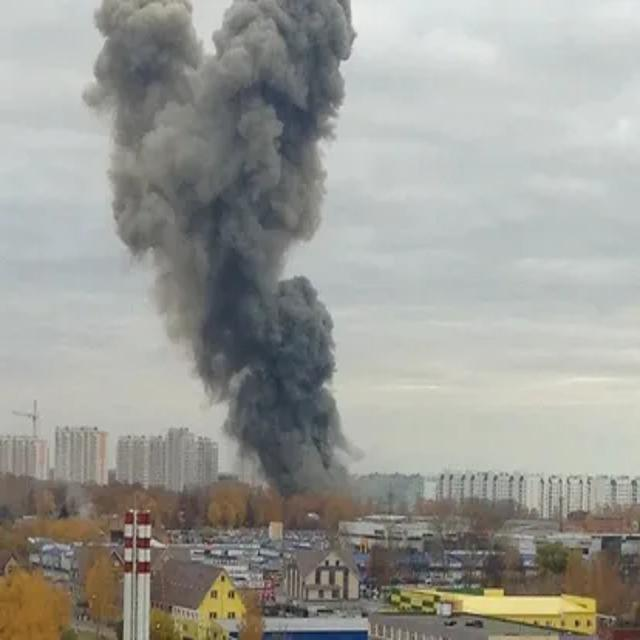Smoke: (81, 0, 367, 494)
